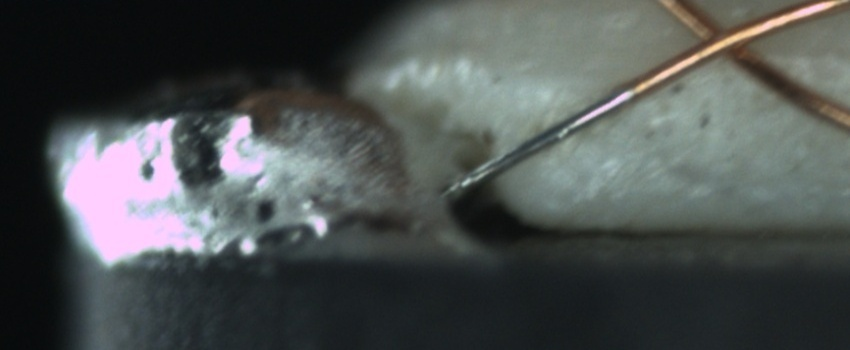CL: (672, 6, 776, 77)
TS: (446, 77, 640, 200)
